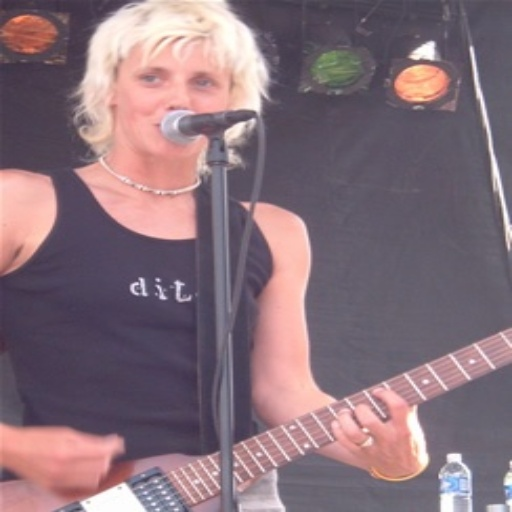hand: (4, 414, 161, 497), (325, 384, 430, 480)
